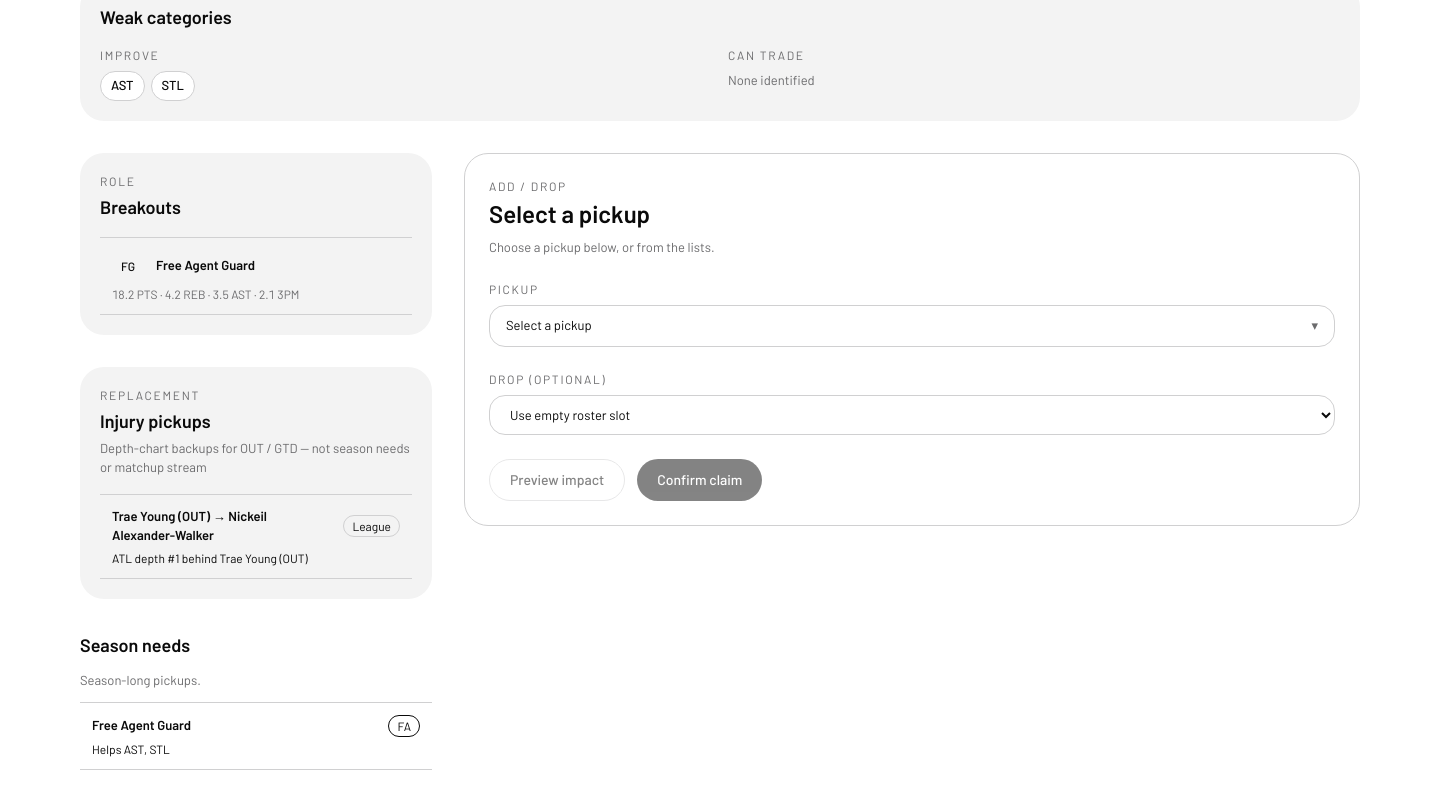
Test: WaiversWorkspace › prefills builder from an injury pickup recommendation
This screenshot has width=1440, height=810.
(page scrolled)
Check: the heading "Injury pickups" is shown, box [100, 410, 211, 432]
Click the button with aria-label "Add Nickeil Alexander-Walker" at (144, 516), box [100, 494, 412, 578]
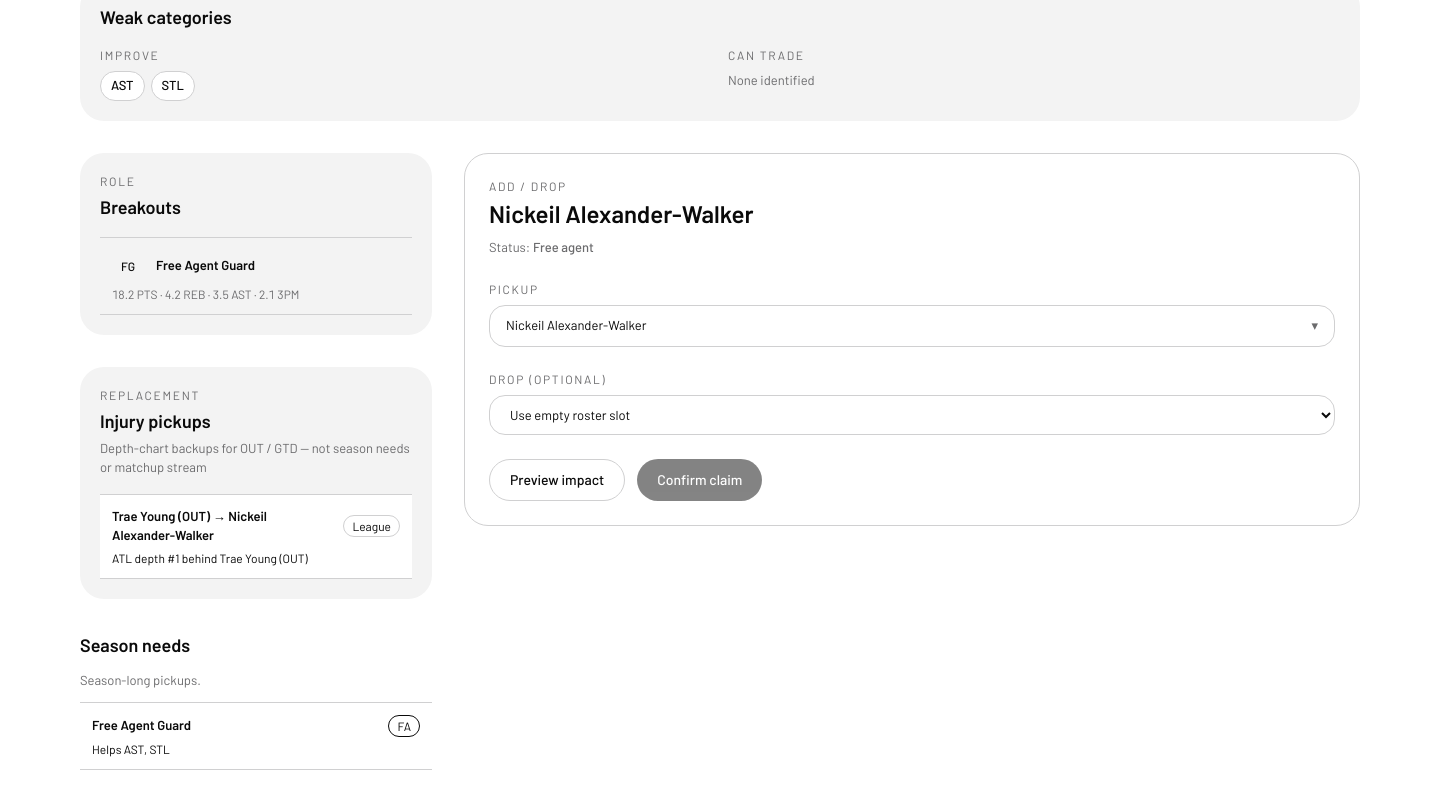
Check: the heading "Nickeil Alexander-Walker" is shown, box [489, 198, 754, 228]
